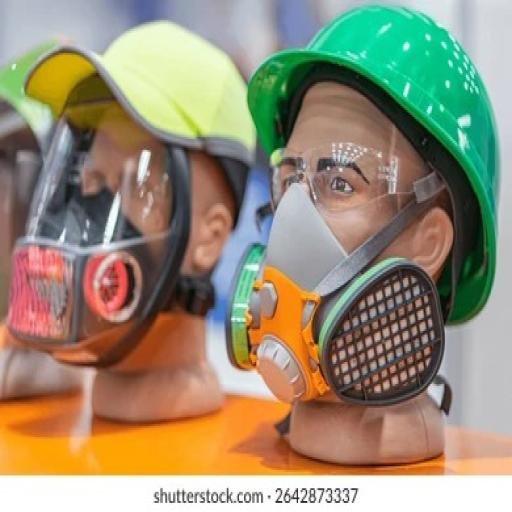mask: (227, 202, 447, 416), (2, 188, 166, 372)
